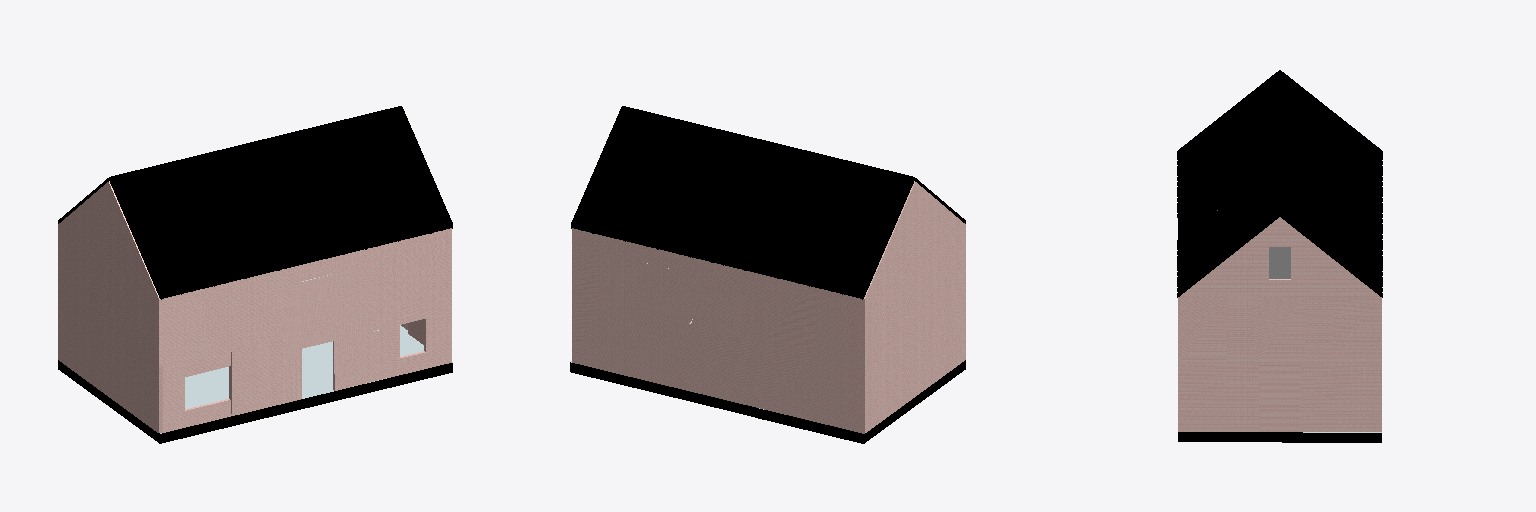
3 views of the same model, side by side, from view 1: azimuth 30°, elevation 25°; view 2: azimuth 150°, elevation 25°; view 3: azimuth 270°, elevation 25° (orthographic).
Parts seen in each view (by area): view 1: casa5:MBH1OBJ_05, casa5:MBH1OBJ_06, casa5:MBH1OBJ_03; view 2: casa5:MBH1OBJ_05, casa5:MBH1OBJ_06, casa5:MBH1OBJ_03; view 3: casa5:MBH1OBJ_05, casa5:MBH1OBJ_06, casa5:MBH1OBJ_03.
Boxes of the visible parts, x1,y1,x2,y2 form: casa5:MBH1OBJ_05: [58, 181, 451, 432]; casa5:MBH1OBJ_06: [58, 106, 452, 299]; casa5:MBH1OBJ_03: [58, 274, 452, 443]; casa5:MBH1OBJ_05: [572, 181, 965, 433]; casa5:MBH1OBJ_06: [571, 106, 965, 299]; casa5:MBH1OBJ_03: [570, 263, 965, 443]; casa5:MBH1OBJ_05: [1178, 217, 1381, 431]; casa5:MBH1OBJ_06: [1177, 70, 1382, 297]; casa5:MBH1OBJ_03: [1178, 210, 1381, 442].
Bounding box in the file's own units: 213 × 158 × 128.
7 materials, 2 textured.